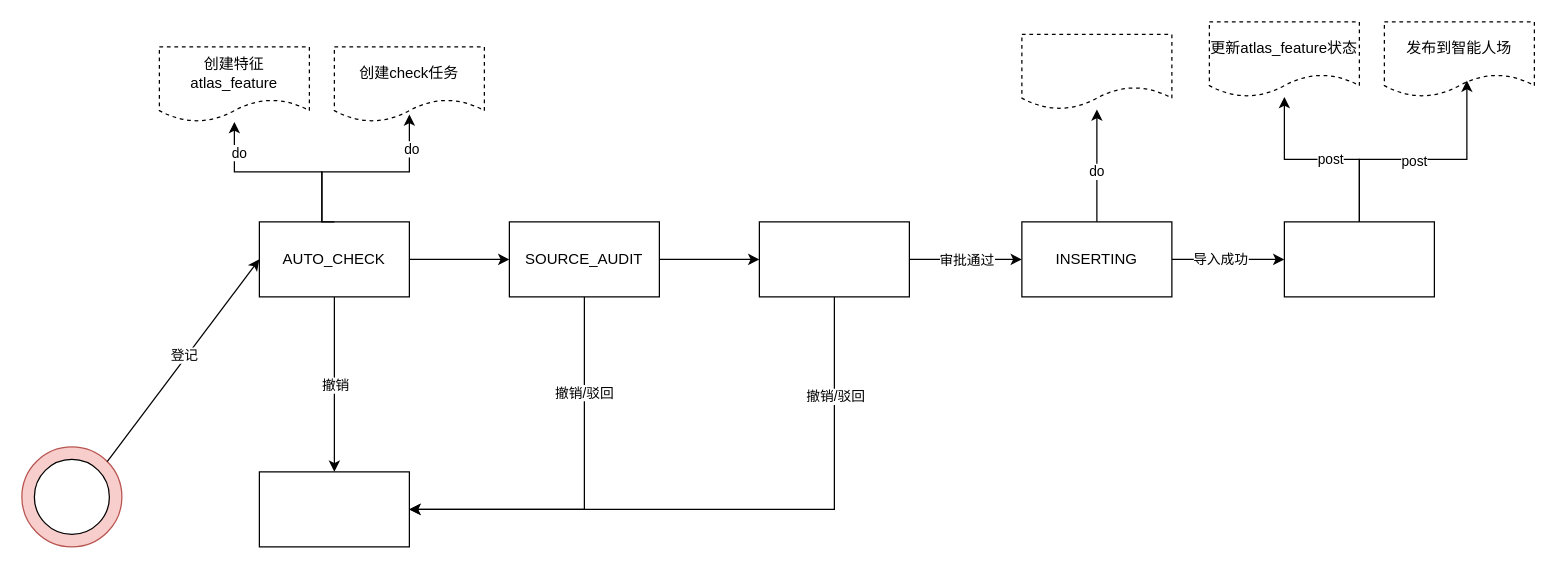
Image size: 1556x569. Some labels were removed from this diagram. Each missing label, with the box of its shape:
DRAFT: (258, 471, 409, 547)
FEATURE_AUDIT: (758, 221, 909, 297)
RUNNING: (1283, 221, 1434, 297)
tesla导入: (1021, 33, 1172, 109)
